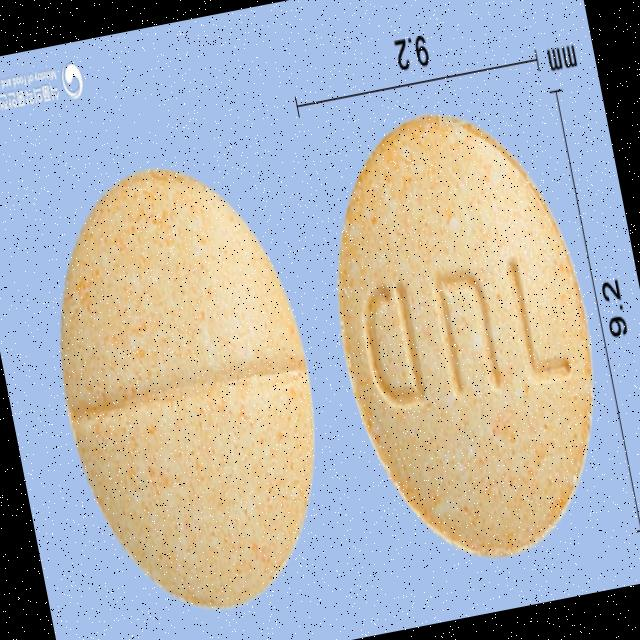Doxymedi: (301, 90, 628, 581), (24, 146, 351, 629)
